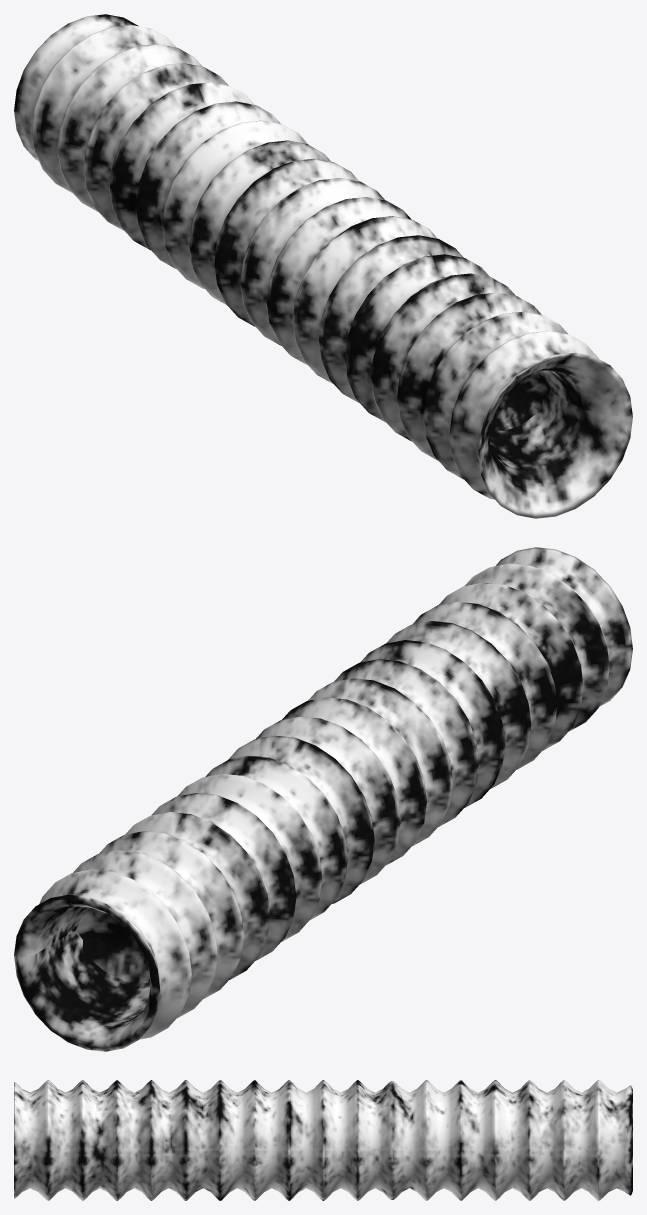
The model's file is SM_Pipe_ripple.fbx.
The picture shows the model from 3 angles, top to bottom: view 1: azimuth 30°, elevation 25°; view 2: azimuth 150°, elevation 25°; view 3: azimuth 270°, elevation 25°; orthographic projection. The views are drawn at different scales.
Parts seen in each view (by area): view 1: SM_Pipe_ripple; view 2: SM_Pipe_ripple; view 3: SM_Pipe_ripple.
Boxes of the visible parts, left/top/right/bottom form: SM_Pipe_ripple: left=14, top=14, right=632, bottom=518; SM_Pipe_ripple: left=14, top=547, right=632, bottom=1051; SM_Pipe_ripple: left=14, top=1080, right=632, bottom=1200.
Bounding box in the file's own units: 19.61 × 100 × 19.61.
1 material, 1 textured.
